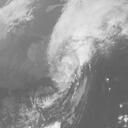cyclone: (43, 31, 98, 102)
